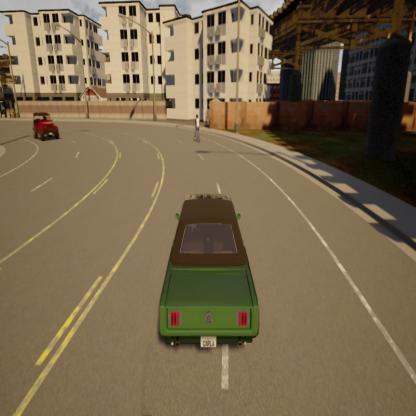Cars: (153, 181, 261, 359), (27, 101, 61, 143)
